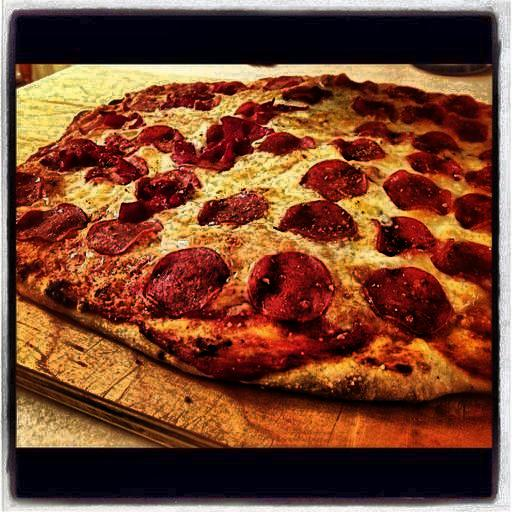pizza: (25, 77, 501, 424)
